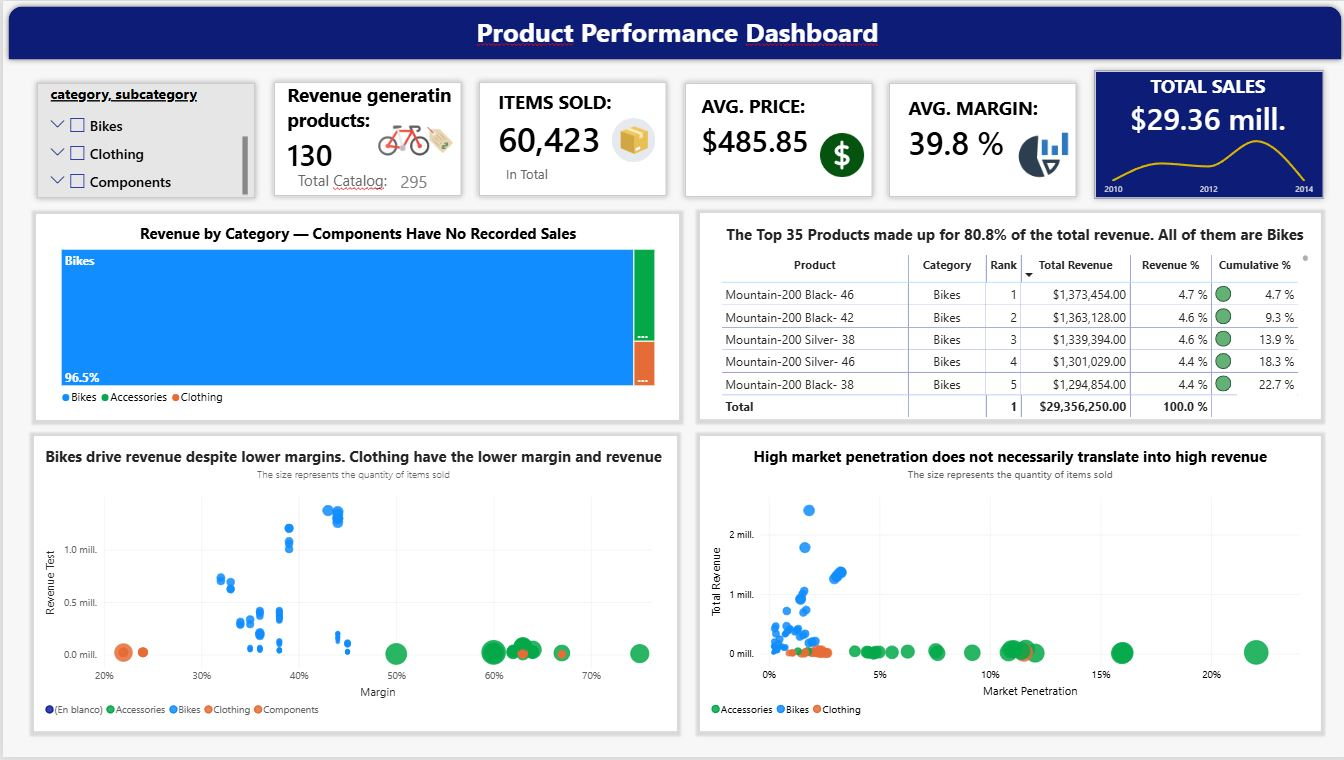

Layout of this report page (visuals, bound fields, positions):
{"tool":"powerbi","page":{"name":"Products","canvas":[1920,1080],"ordinal":1},"visuals":[{"type":"shape","box":[1257.1,108.3,285,180],"z":0},{"type":"shape","box":[965,108.3,285,180],"z":1000},{"type":"shape","box":[671.6,107.4,285,180],"z":2000},{"type":"shape","box":[995.8,303.5,886.5,294.5],"z":3000},{"type":"shape","box":[0,0,1920,91.7],"z":4000},{"type":"textbox","box":[52.9,18.6,1821.4,72.9],"z":5000},{"type":"cardVisual","fields":{"Data":["Clients.Active_percentage"]},"box":[521,158.8,94.3,39.9],"z":6000},{"type":"shape","box":[1550.9,91.7,343.6,198.8],"z":7000},{"type":"cardVisual","fields":{"Data":["Sum(Sales.sales_amount)"]},"box":[1575.3,108.9,291.7,83.2],"z":8000},{"type":"lineChart","fields":{"Category":["Sales.order_date.Variación.Jerarquía de fechas.Año"],"Y":["Sum(Sales.sales_amount)"]},"box":[1573.1,178.9,298.6,102.9],"z":9000},{"type":"shape","box":[47.6,304.1,918.6,294.3],"z":10000},{"type":"shape","box":[45,621.7,918.3,421.7],"z":11000},{"type":"shape","box":[995,621.7,886.7,421.7],"z":12000},{"type":"treemap","title":"Revenue by Category — Components Have No Recorded Sales","fields":{"Group":["Products.category","Products.subcategory","Products.product_name"],"Values":["Sales.Revenue % Total"]},"box":[67.6,302.6,880.1,294.9],"z":13000},{"type":"scatterChart","title":"High market penetration does not necessarily translate into high revenue","fields":{"Series":["Products.category"],"Size":["Sales.Items Sold"],"X":["Products.Market_penetration_%"],"Y":["Sales.Total Revenue"]},"box":[995.1,621.9,886.6,420.8],"z":14000},{"type":"tableEx","title":"The Top 35 Products made up for 80.8% of the total revenue. All of them are Bikes","fields":{"Values":["Products.product_name","Products.category","Sales.Product Revenue Rank 3","Sum(Sales.sales_amount)","Sales.Revenue % Total","Sales.Cumulative Revenue %"]},"box":[1009.9,303.9,870.9,305.7],"z":15000},{"type":"shape","box":[378,107.5,285,180],"z":16000},{"type":"scatterChart","title":"Bikes drive revenue despite lower margins. Clothing have the lower margin and revenue","fields":{"Category":["Products.product_name"],"Series":["Products.category"],"Size":["Sales.Items Sold"],"X":["Products.Margin_%"],"Y":["Sales.Revenue Test"]},"box":[44.3,621.4,912.9,421.4],"z":17000},{"type":"shape","box":[1765.2,569,86.2,28.7],"z":18000},{"type":"shape","box":[40,108.6,328.6,181.4],"z":19000},{"type":"cardVisual","fields":{"Data":["Products.Products with Sales"]},"box":[390,117.9,281.2,127],"z":20000},{"type":"textbox","box":[397.1,241.4,175.4,34.8],"z":21000},{"type":"cardVisual","fields":{"Data":["Sales.Items Sold"]},"box":[691.6,131.6,244.7,92.5],"z":22000},{"type":"cardVisual","fields":{"Data":["Sales.Margin %"]},"box":[1276.7,131.7,253.3,103.3],"z":23000},{"type":"image","box":[1445,183.3,84.7,74.1],"z":24000},{"type":"image","box":[865.9,167.4,70,62.9],"z":25000},{"type":"image","box":[530.6,163.3,84.3,72.9],"z":26000},{"type":"image","box":[592.6,179.9,62.9,37.1],"z":27000},{"type":"textbox","box":[718.7,234.5,238,26.2],"z":28000},{"type":"slicer","fields":{"Values":["Products.category","Products.subcategory"]},"box":[60,118.6,290,158.6],"z":29000},{"type":"cardVisual","fields":{"Data":["Sales.Average Price"]},"box":[981.7,128.3,253.3,103.3],"z":30000},{"type":"image","box":[1146.7,188.3,103.3,63.3],"z":31000},{"type":"cardVisual","fields":{"Data":["Products.Products #"]},"box":[551.4,237.1,83.1,39.3],"z":31001}]}

Visuals, with their boxes in screenshot pixels (x1, y1, x2, y2), scaled from the page's 1920x1080 canvas onto the 1344x760 screenshot:
shape: Rect(880, 76, 1079, 203)
shape: Rect(676, 76, 875, 203)
shape: Rect(470, 76, 670, 202)
shape: Rect(697, 214, 1318, 421)
shape: Rect(0, 0, 1343, 65)
textbox: Rect(37, 13, 1312, 64)
cardVisual - Clients.Active_percentage: Rect(365, 112, 431, 140)
shape: Rect(1086, 65, 1326, 204)
cardVisual - Sum(Sales.sales_amount): Rect(1103, 77, 1307, 135)
lineChart - Sales.order_date.Variación.Jerarquía de fechas.Año x Sum(Sales.sales_amount): Rect(1101, 126, 1310, 198)
shape: Rect(33, 214, 676, 421)
shape: Rect(31, 437, 674, 734)
shape: Rect(696, 437, 1317, 734)
"Revenue by Category — Components Have No Recorded Sales" treemap: Rect(47, 213, 663, 420)
"High market penetration does not necessarily translate into high revenue" scatterChart: Rect(697, 438, 1317, 734)
"The Top 35 Products made up for 80.8% of the total revenue. All of them are Bikes" tableEx: Rect(707, 214, 1317, 429)
shape: Rect(265, 76, 464, 202)
"Bikes drive revenue despite lower margins. Clothing have the lower margin and revenue" scatterChart: Rect(31, 437, 670, 734)
shape: Rect(1236, 400, 1296, 421)
shape: Rect(28, 76, 258, 204)
cardVisual - Products.Products with Sales: Rect(273, 83, 470, 172)
textbox: Rect(278, 170, 401, 194)
cardVisual - Sales.Items Sold: Rect(484, 93, 655, 158)
cardVisual - Sales.Margin %: Rect(894, 93, 1071, 165)
image: Rect(1011, 129, 1071, 181)
image: Rect(606, 118, 655, 162)
image: Rect(371, 115, 430, 166)
image: Rect(415, 127, 459, 153)
textbox: Rect(503, 165, 670, 183)
slicer - Products.category x Products.subcategory: Rect(42, 83, 245, 195)
cardVisual - Sales.Average Price: Rect(687, 90, 864, 163)
image: Rect(803, 133, 875, 177)
cardVisual - Products.Products #: Rect(386, 167, 444, 195)
